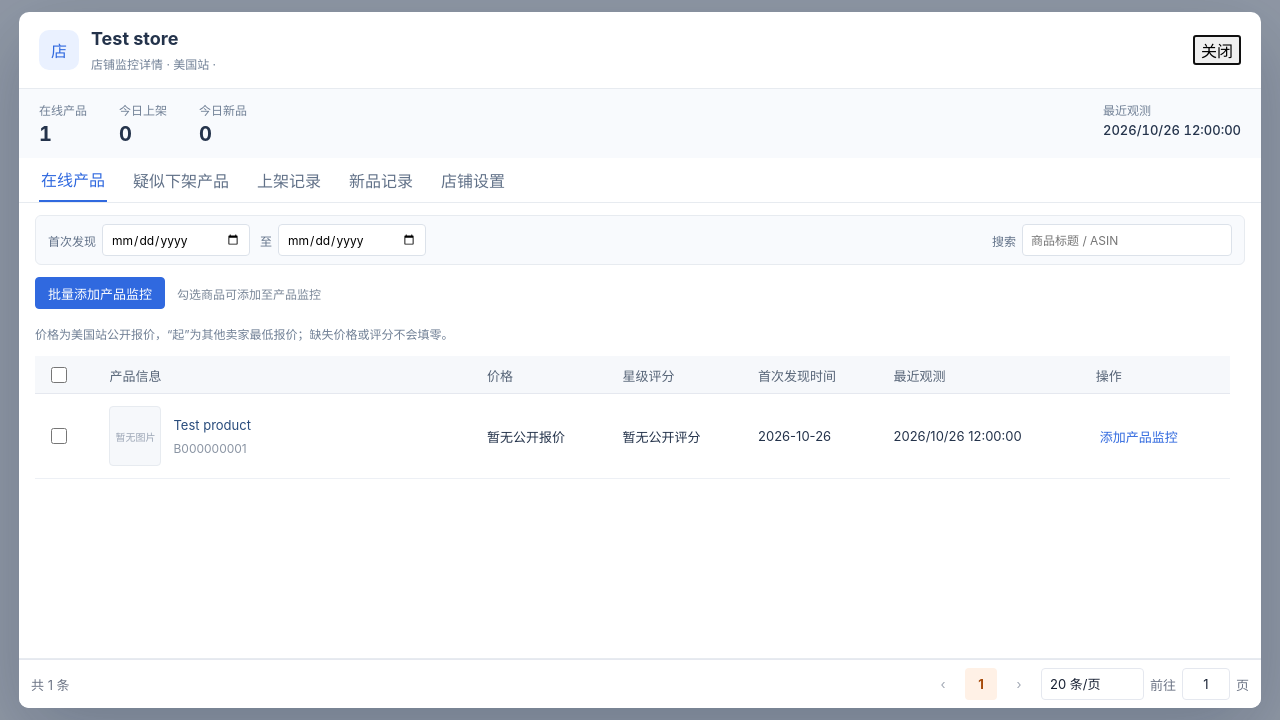
Test case: store product monitoring › adds the chosen observed ASIN and keeps absent price unknown
The width and height of the screenshot is (1280, 720).
Click the button "添加产品监控" at (1139, 436), box [1096,427,1182,446]
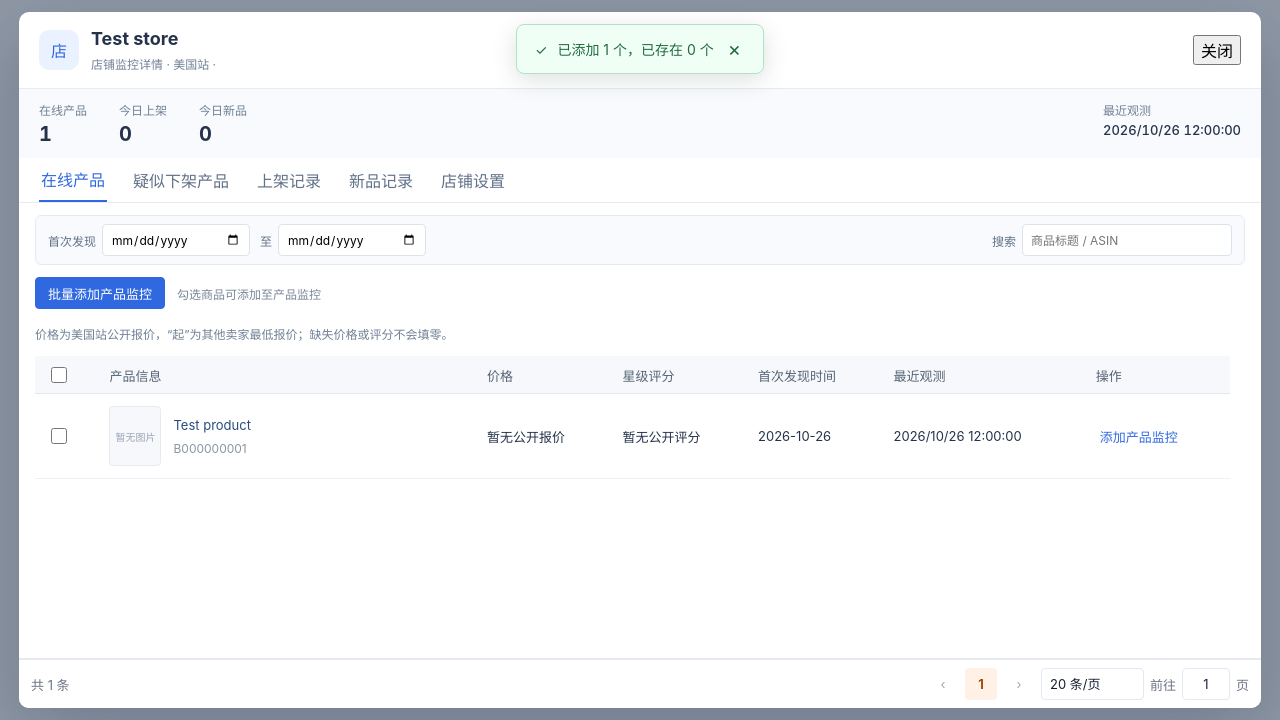
Expected: the text "已添加 1 个" is shown, [557,41,714,58]
